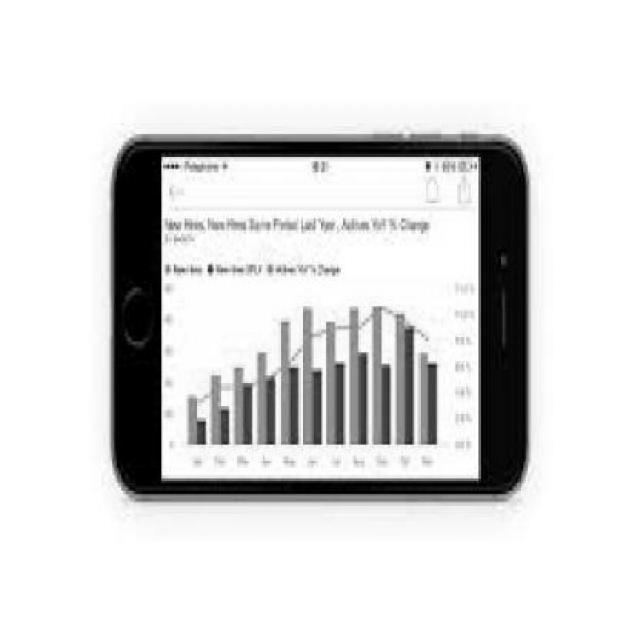fake: (110, 130, 530, 498)
